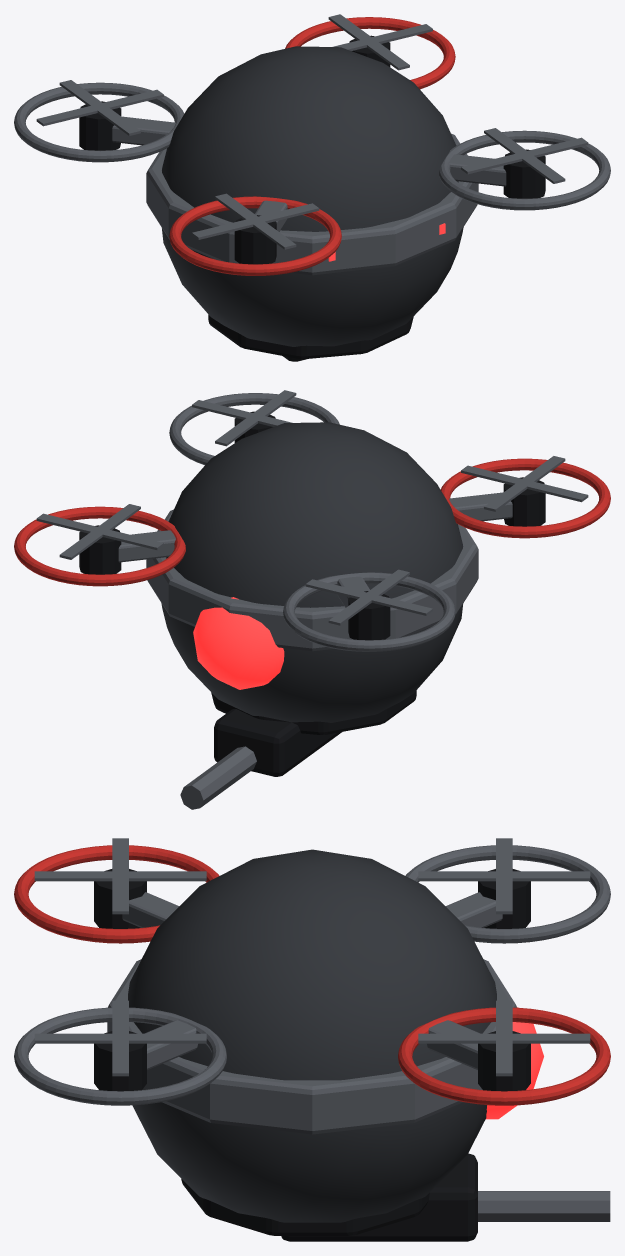
File: td_drone.glb
The picture shows the model from 3 angles, top to bottom: view 1: azimuth 30°, elevation 25°; view 2: azimuth 150°, elevation 25°; view 3: azimuth 270°, elevation 25°; orthographic projection. The views are drawn at different scales.
Visible parts, largest first — view 1: DroneBody, Rotor3, Rotor2, Rotor1, Rotor0; view 2: DroneBody, DroneEye, Rotor2, Rotor0, Rotor1, Rotor3; view 3: DroneBody, Rotor0, Rotor1, Rotor2, Rotor3, DroneEye.
Part boxes in pixels (left/top/right/bottom): DroneBody: left=14, top=17, right=610, bottom=361; Rotor3: left=461, top=128, right=588, bottom=183; Rotor2: left=192, top=193, right=319, bottom=249; Rotor1: left=36, top=80, right=163, bottom=135; Rotor0: left=328, top=14, right=432, bottom=70; DroneBody: left=14, top=393, right=610, bottom=809; DroneEye: left=193, top=597, right=284, bottom=689; Rotor2: left=461, top=456, right=588, bottom=511; Rotor0: left=36, top=504, right=163, bottom=559; Rotor1: left=305, top=569, right=432, bottom=625; Rotor3: left=192, top=390, right=296, bottom=446; DroneBody: left=14, top=845, right=610, bottom=1241; Rotor0: left=418, top=1000, right=590, bottom=1076; Rotor1: left=418, top=838, right=590, bottom=914; Rotor2: left=34, top=838, right=206, bottom=914; Rotor3: left=34, top=1000, right=206, bottom=1076; DroneEye: left=486, top=1007, right=543, bottom=1119.
Bounding box in the file's own units: 1.8 × 1.19 × 1.8.
